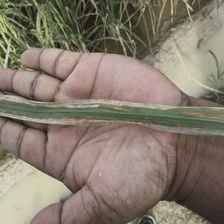Leaf_Blast: (5, 95, 218, 122)
